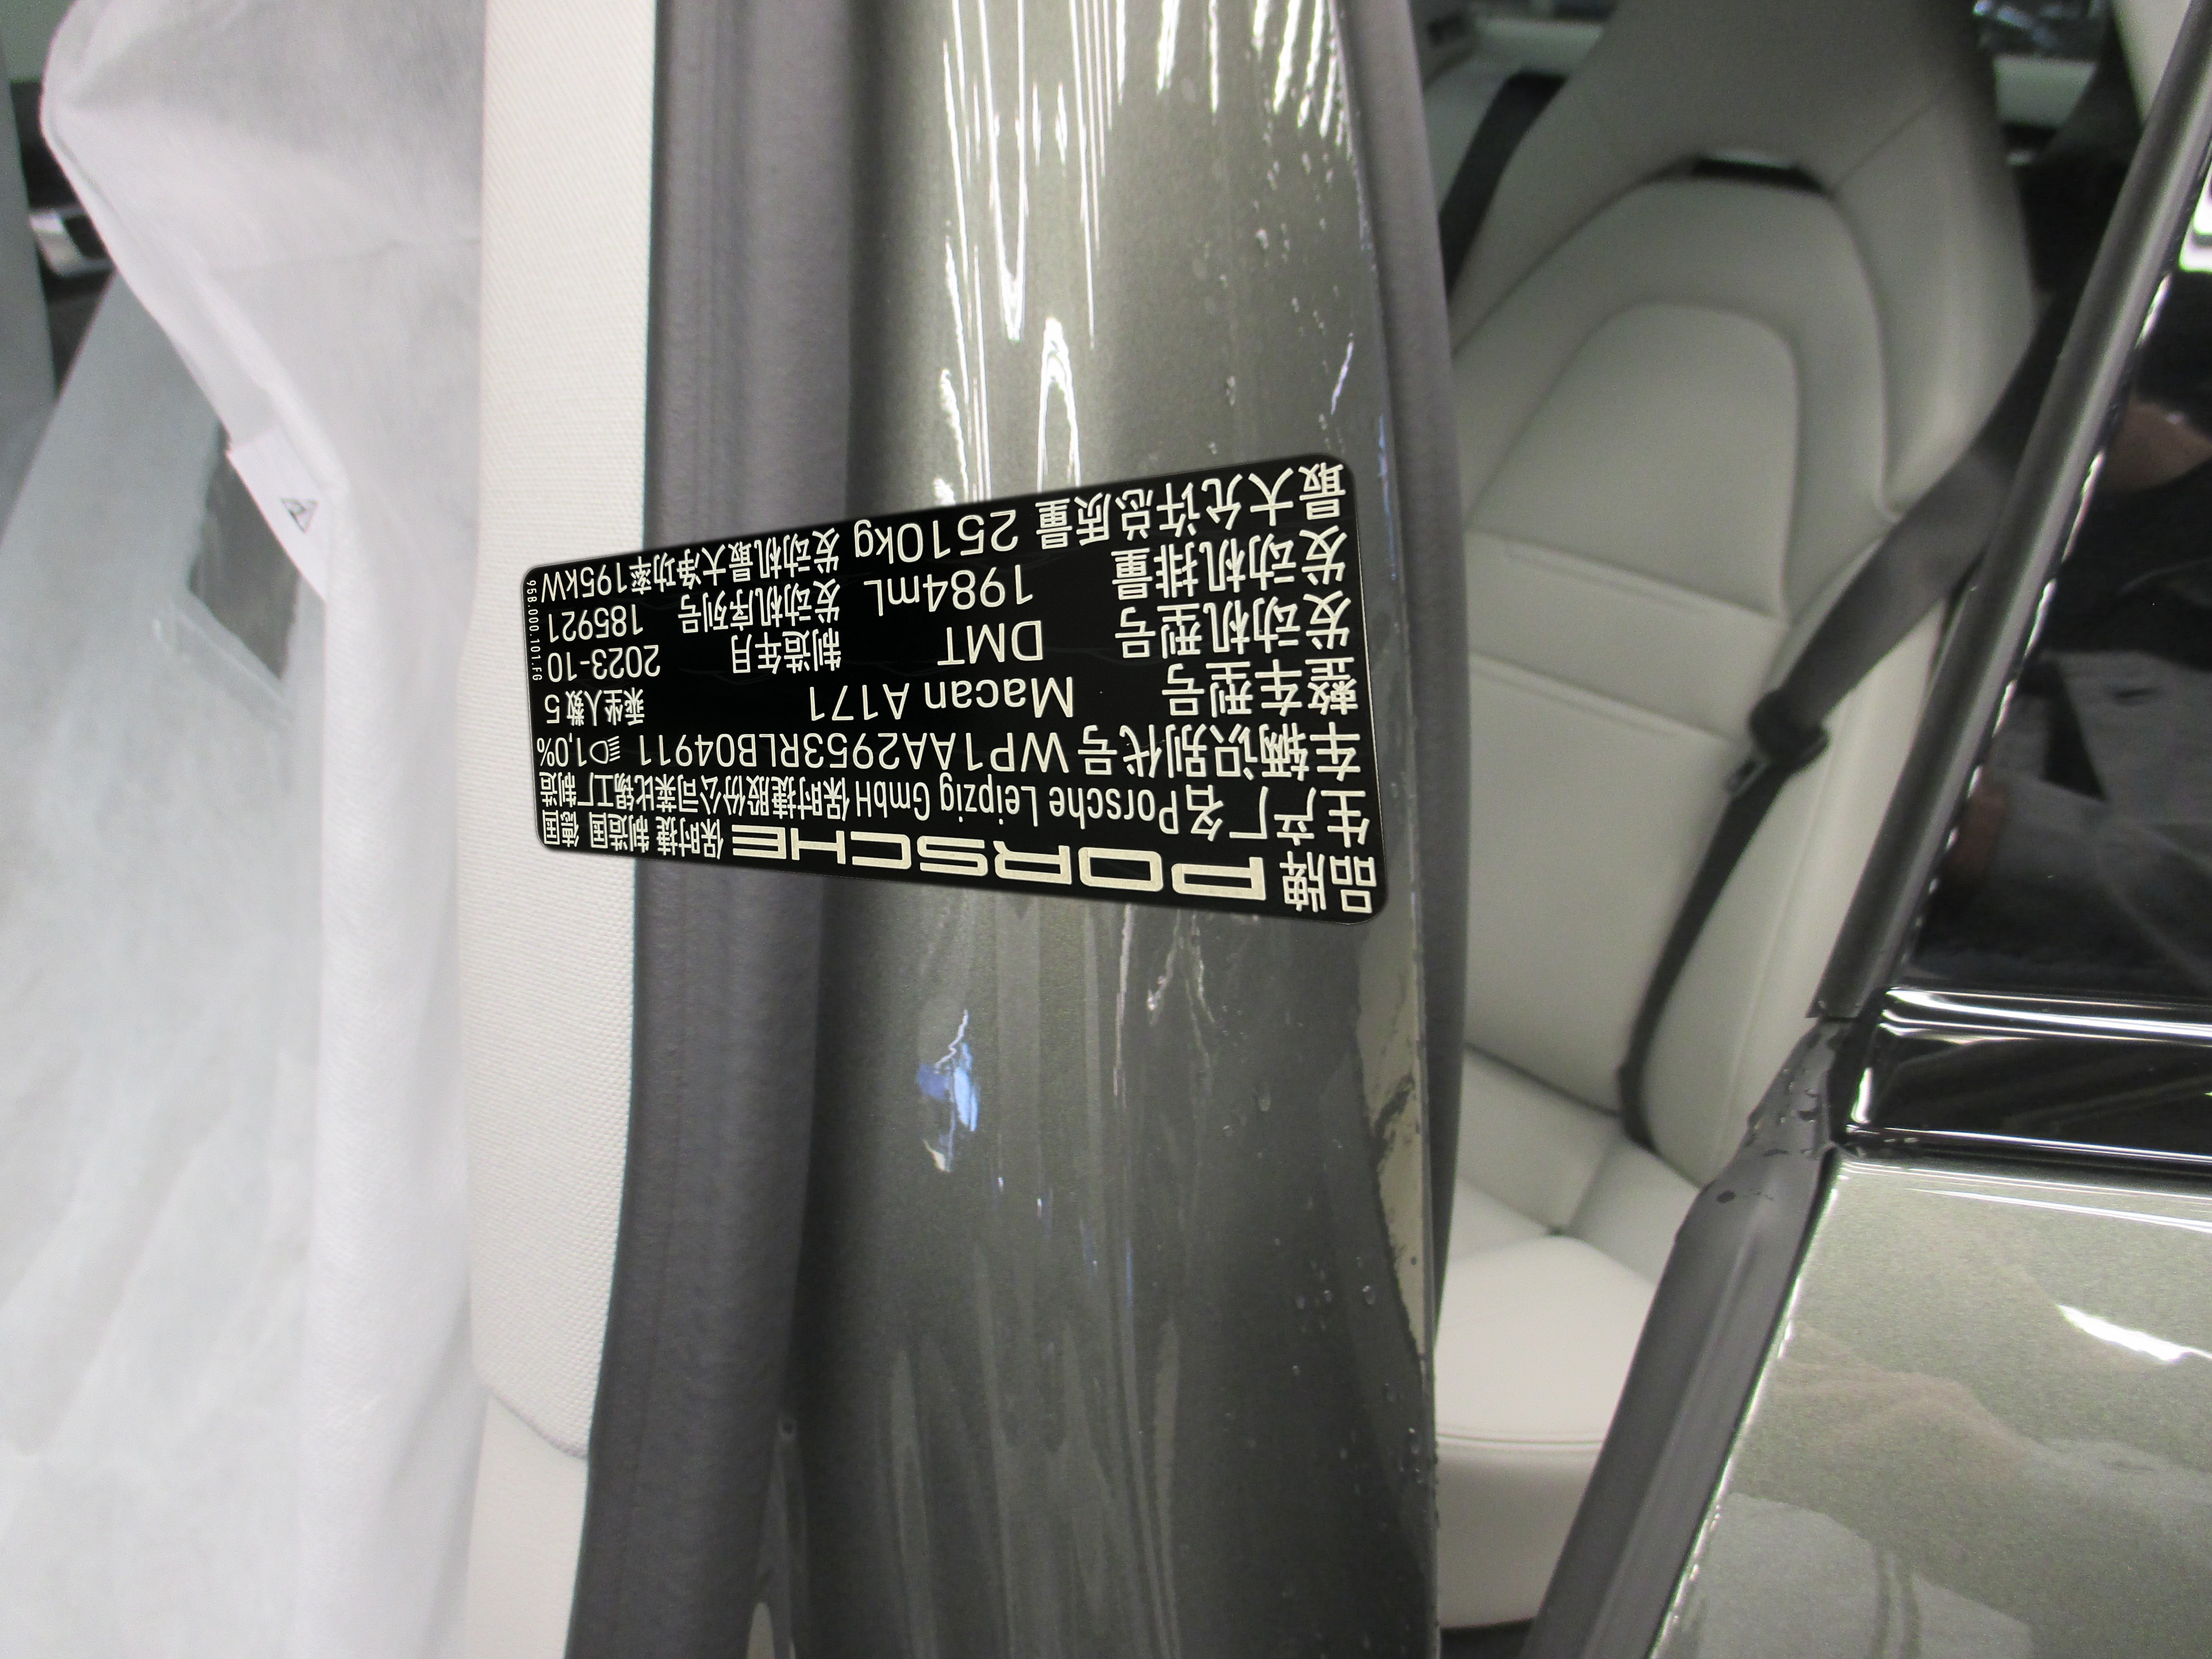Typlabel-China: (523, 455, 1386, 924)
